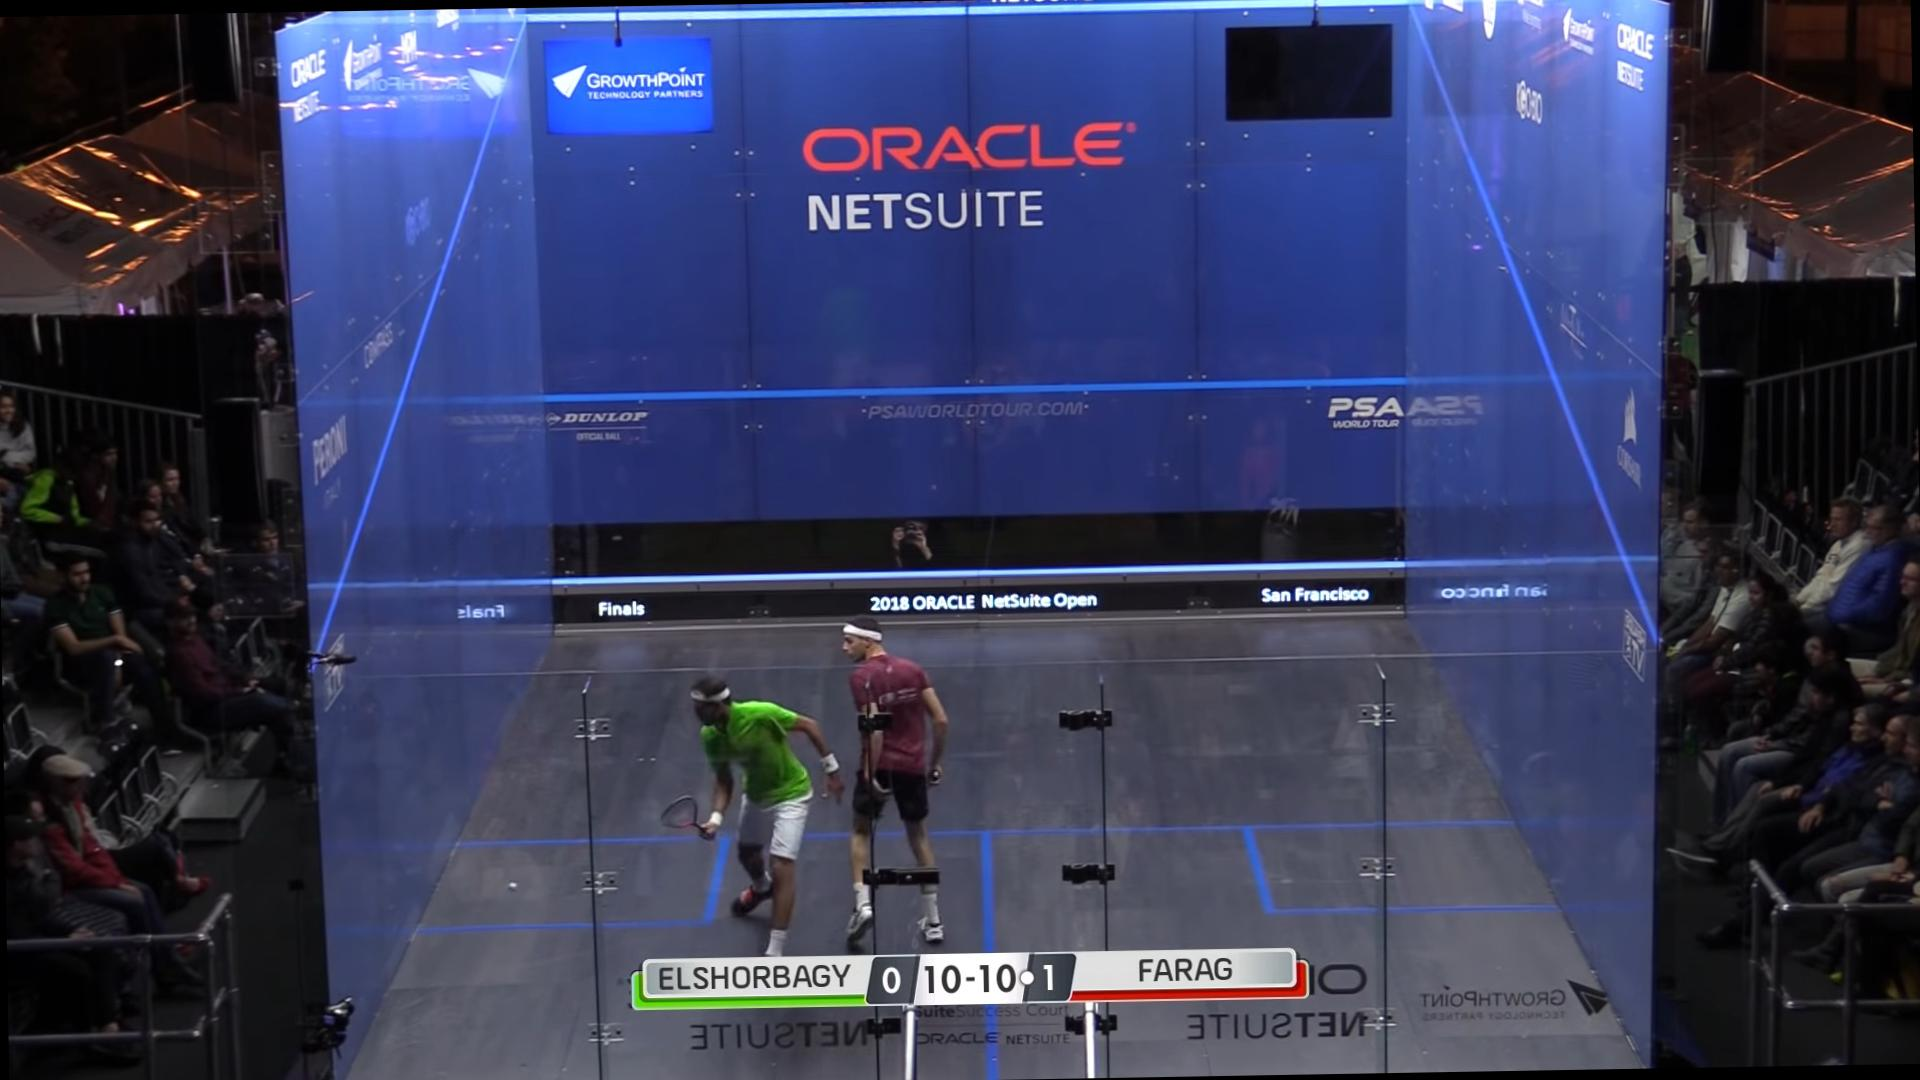Squash-Ball: (502, 869, 527, 897)
